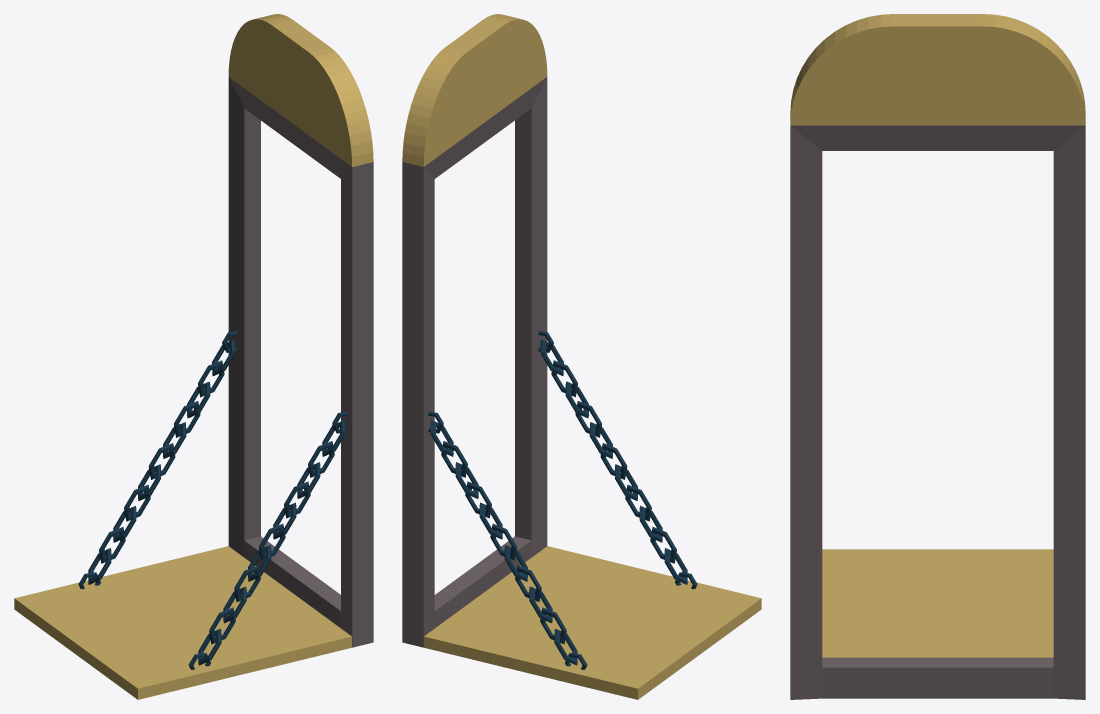
Rendered from bridge_door - Copia.fbx.
The picture shows the model from 3 angles, left to right: view 1: azimuth 30°, elevation 25°; view 2: azimuth 150°, elevation 25°; view 3: azimuth 270°, elevation 25°; orthographic projection. The views are drawn at different scales.
Parts seen in each view (by area): view 1: Plane.003, Torus.011, Torus.000; view 2: Plane.003, Torus.000, Torus.011; view 3: Plane.003.
Part boxes in pixels (box(x1,y1,x2,y2)): Plane.003: box(14, 14, 373, 699); Torus.011: box(188, 412, 347, 669); Torus.000: box(78, 331, 237, 589); Plane.003: box(402, 14, 761, 699); Torus.000: box(428, 412, 587, 669); Torus.011: box(538, 331, 697, 589); Plane.003: box(790, 14, 1085, 699).
Size of the model in its own units: 110 by 252 by 100.
